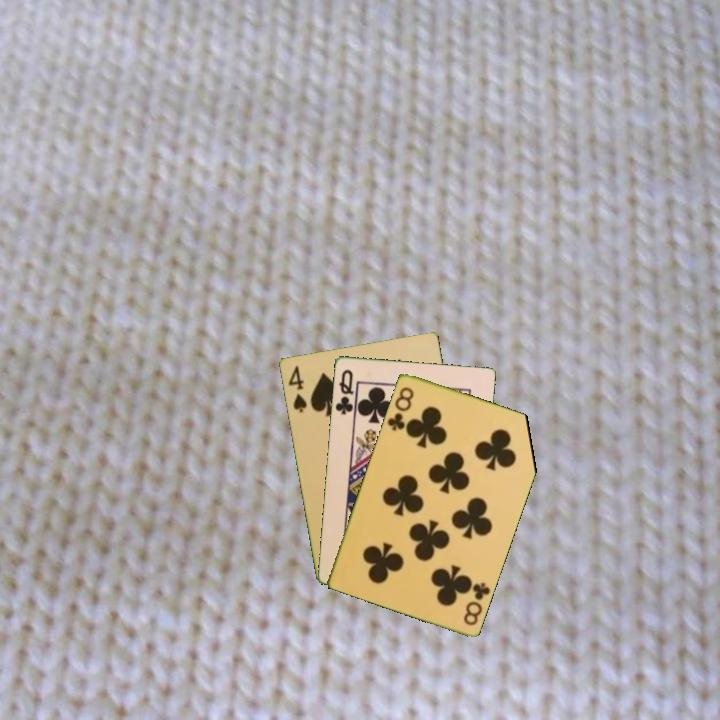4s: (285, 361, 309, 415)
8c: (383, 383, 416, 433), (460, 578, 493, 628)
Qc: (332, 366, 359, 419)
